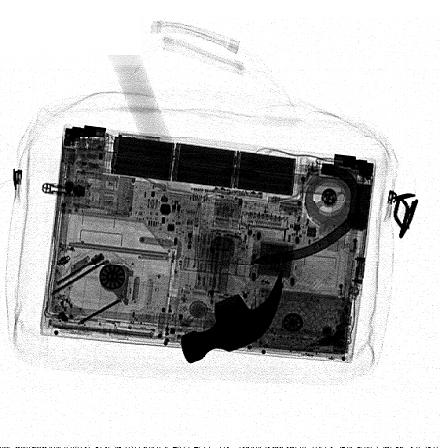Hammer: (107, 54, 284, 364)
